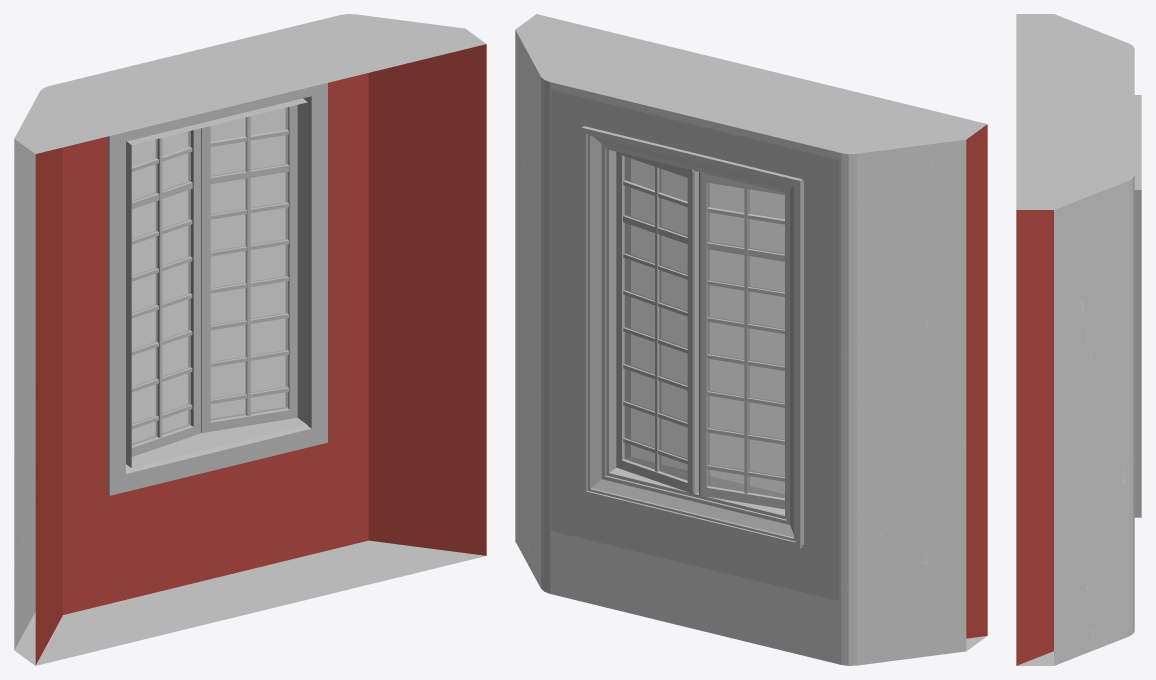
Rendered from SM_BuildingFacade_Window_400x250uu_Big_02.fbx.
The picture shows the model from 3 angles, left to right: view 1: azimuth 30°, elevation 25°; view 2: azimuth 150°, elevation 25°; view 3: azimuth 270°, elevation 25°; orthographic projection. The views are drawn at different scales.
Parts seen in each view (by area): view 1: SM_BuildingFacade_Window_400x250uu_Big_02; view 2: SM_BuildingFacade_Window_400x250uu_Big_02; view 3: SM_BuildingFacade_Window_400x250uu_Big_02.
Part boxes in pixels (x1=…): SM_BuildingFacade_Window_400x250uu_Big_02: x1=14, y1=14, x2=486, y2=665; SM_BuildingFacade_Window_400x250uu_Big_02: x1=515, y1=14, x2=987, y2=665; SM_BuildingFacade_Window_400x250uu_Big_02: x1=1016, y1=14, x2=1141, y2=665.
Bounding box in the file's own units: 369 × 400 × 99.65.
